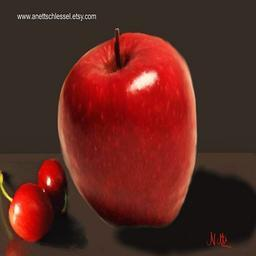apple: (56, 29, 200, 231)
